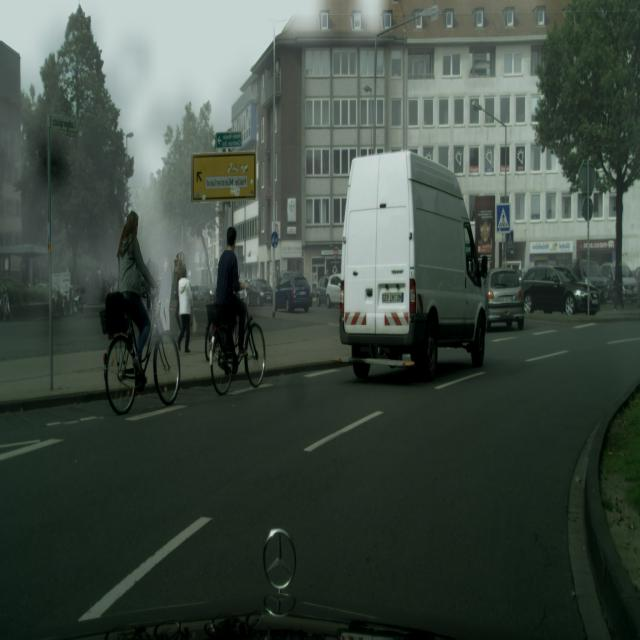car: (103, 283, 180, 414), (208, 292, 266, 396)
person: (117, 209, 160, 383), (216, 225, 248, 368), (177, 267, 194, 352), (159, 256, 173, 332)
rider: (338, 151, 488, 382)
truck: (519, 264, 600, 316), (485, 266, 525, 331), (274, 273, 312, 314), (573, 260, 608, 304), (600, 261, 638, 301), (247, 278, 273, 306), (326, 274, 342, 308), (316, 275, 330, 304)
